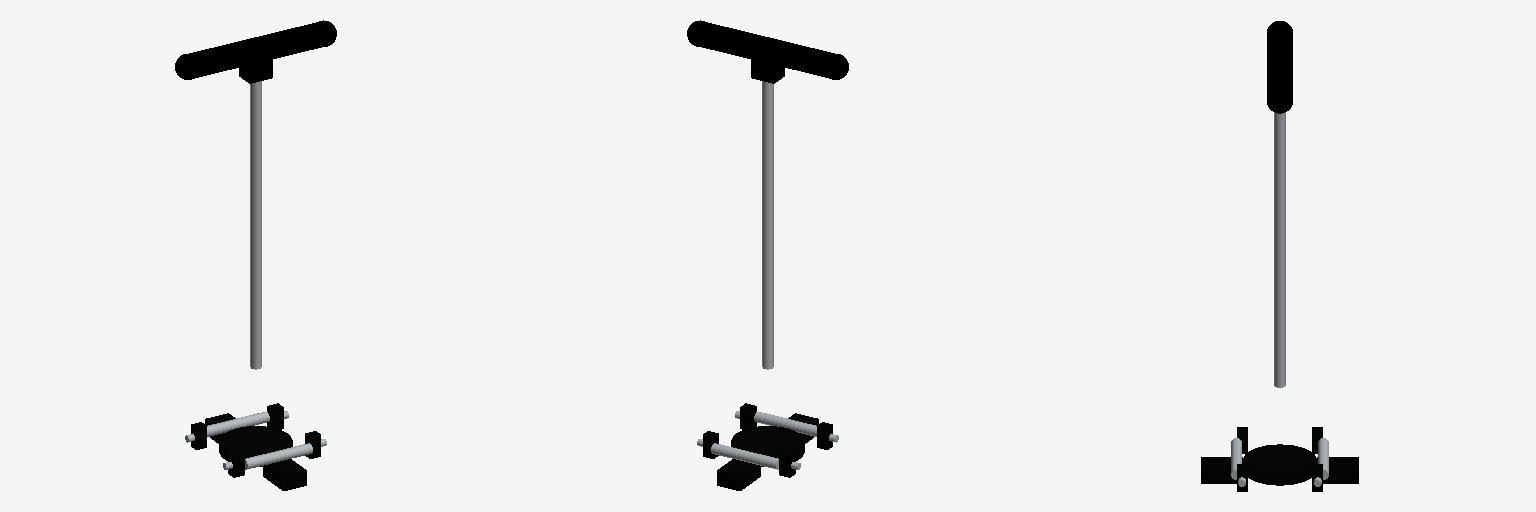
robot.urdf — portable_camping_pump:
<robot name="portable_camping_pump">
  <material name="matte_black_plastic">
    <color rgba="0.02 0.025 0.025 1" />
    </material>
  <material name="anodized_blue_barrel">
    <color rgba="0.05 0.28 0.62 1" />
    </material>
  <material name="soft_black_rubber">
    <color rgba="0.005 0.005 0.006 1" />
    </material>
  <material name="brushed_steel">
    <color rgba="0.72 0.74 0.75 1" />
    </material>
  <link name="base_barrel">
    <visual name="base_plate">
      <origin xyz="0 0 0.009" rpy="0 0 0" />
      <geometry>
        <mesh filename="assets/meshes/base_plate.obj" />
        </geometry>
      <material name="matte_black_plastic">
        <color rgba="0.02 0.025 0.025 1" />
        </material>
      </visual>
    <visual name="barrel_socket">
      <origin xyz="0 0 0.024" rpy="0 0 0" />
      <geometry>
        <cylinder radius="0.04" length="0.012" />
        </geometry>
      <material name="matte_black_plastic">
        <color rgba="0.02 0.025 0.025 1" />
        </material>
      </visual>
    <visual name="barrel_shell">
      <origin xyz="0 0 0.018" rpy="0 0 0" />
      <geometry>
        <mesh filename="assets/meshes/barrel_shell.obj" />
        </geometry>
      <material name="anodized_blue_barrel">
        <color rgba="0.05 0.28 0.62 1" />
        </material>
      </visual>
    <visual name="top_collar">
      <origin xyz="0 0 0.258" rpy="0 0 0" />
      <geometry>
        <mesh filename="assets/meshes/top_collar.obj" />
        </geometry>
      <material name="matte_black_plastic">
        <color rgba="0.02 0.025 0.025 1" />
        </material>
      </visual>
    <visual name="guide_bushing">
      <origin xyz="0 0 0.26" rpy="0 0 0" />
      <geometry>
        <mesh filename="assets/meshes/guide_bushing.obj" />
        </geometry>
      <material name="brushed_steel">
        <color rgba="0.72 0.74 0.75 1" />
        </material>
      </visual>
    <visual name="side_0_hinge_lug_0">
      <origin xyz="-0.048 0.041 0.031" rpy="0 0 0" />
      <geometry>
        <box size="0.014 0.012 0.026" />
        </geometry>
      <material name="matte_black_plastic">
        <color rgba="0.02 0.025 0.025 1" />
        </material>
      </visual>
    <visual name="side_0_hinge_lug_1">
      <origin xyz="0.048 0.041 0.031" rpy="0 0 0" />
      <geometry>
        <box size="0.014 0.012 0.026" />
        </geometry>
      <material name="matte_black_plastic">
        <color rgba="0.02 0.025 0.025 1" />
        </material>
      </visual>
    <visual name="side_1_hinge_lug_0">
      <origin xyz="-0.048 -0.041 0.031" rpy="0 0 0" />
      <geometry>
        <box size="0.014 0.012 0.026" />
        </geometry>
      <material name="matte_black_plastic">
        <color rgba="0.02 0.025 0.025 1" />
        </material>
      </visual>
    <visual name="side_1_hinge_lug_1">
      <origin xyz="0.048 -0.041 0.031" rpy="0 0 0" />
      <geometry>
        <box size="0.014 0.012 0.026" />
        </geometry>
      <material name="matte_black_plastic">
        <color rgba="0.02 0.025 0.025 1" />
        </material>
      </visual>
    <visual name="side_0_hinge_cap_0">
      <origin xyz="-0.059 0.041 0.031" rpy="0 1.5708 0" />
      <geometry>
        <cylinder radius="0.004" length="0.008" />
        </geometry>
      <material name="brushed_steel">
        <color rgba="0.72 0.74 0.75 1" />
        </material>
      </visual>
    <visual name="side_0_hinge_cap_1">
      <origin xyz="0.059 0.041 0.031" rpy="0 1.5708 0" />
      <geometry>
        <cylinder radius="0.004" length="0.008" />
        </geometry>
      <material name="brushed_steel">
        <color rgba="0.72 0.74 0.75 1" />
        </material>
      </visual>
    <visual name="side_1_hinge_cap_0">
      <origin xyz="-0.059 -0.041 0.031" rpy="0 1.5708 0" />
      <geometry>
        <cylinder radius="0.004" length="0.008" />
        </geometry>
      <material name="brushed_steel">
        <color rgba="0.72 0.74 0.75 1" />
        </material>
      </visual>
    <visual name="side_1_hinge_cap_1">
      <origin xyz="0.059 -0.041 0.031" rpy="0 1.5708 0" />
      <geometry>
        <cylinder radius="0.004" length="0.008" />
        </geometry>
      <material name="brushed_steel">
        <color rgba="0.72 0.74 0.75 1" />
        </material>
      </visual>
    </link>
  <link name="handle_rod">
    <visual name="rod">
      <origin xyz="0 0 0.035" rpy="0 0 0" />
      <geometry>
        <cylinder radius="0.006" length="0.38" />
        </geometry>
      <material name="brushed_steel">
        <color rgba="0.72 0.74 0.75 1" />
        </material>
      </visual>
    <visual name="t_grip">
      <origin xyz="0 0 0.225" rpy="0 1.5708 0" />
      <geometry>
        <cylinder radius="0.014" length="0.17" />
        </geometry>
      <material name="soft_black_rubber">
        <color rgba="0.005 0.005 0.006 1" />
        </material>
      </visual>
    <visual name="grip_end_0">
      <origin xyz="-0.085 0 0.225" rpy="0 0 0" />
      <geometry>
        <sphere radius="0.0145" />
        </geometry>
      <material name="soft_black_rubber">
        <color rgba="0.005 0.005 0.006 1" />
        </material>
      </visual>
    <visual name="grip_end_1">
      <origin xyz="0.085 0 0.225" rpy="0 0 0" />
      <geometry>
        <sphere radius="0.0145" />
        </geometry>
      <material name="soft_black_rubber">
        <color rgba="0.005 0.005 0.006 1" />
        </material>
      </visual>
    <visual name="grip_hub">
      <origin xyz="0 0 0.205" rpy="0 0 0" />
      <geometry>
        <box size="0.03 0.024 0.024" />
        </geometry>
      <material name="soft_black_rubber">
        <color rgba="0.005 0.005 0.006 1" />
        </material>
      </visual>
    </link>
  <link name="foot_0">
    <visual name="hinge_barrel">
      <origin xyz="0 0 0" rpy="0 1.5708 0" />
      <geometry>
        <cylinder radius="0.006" length="0.082" />
        </geometry>
      <material name="brushed_steel">
        <color rgba="0.72 0.74 0.75 1" />
        </material>
      </visual>
    <visual name="hinge_web">
      <origin xyz="0 0.016 -0.014" rpy="0 0 0" />
      <geometry>
        <box size="0.03 0.045 0.018" />
        </geometry>
      <material name="matte_black_plastic">
        <color rgba="0.02 0.025 0.025 1" />
        </material>
      </visual>
    <visual name="foot_plate">
      <origin xyz="0 0.062 -0.025" rpy="0 0 0" />
      <geometry>
        <mesh filename="assets/meshes/foot_plate.obj" />
        </geometry>
      <material name="matte_black_plastic">
        <color rgba="0.02 0.025 0.025 1" />
        </material>
      </visual>
    </link>
  <link name="foot_1">
    <visual name="hinge_barrel">
      <origin xyz="0 0 0" rpy="0 1.5708 0" />
      <geometry>
        <cylinder radius="0.006" length="0.082" />
        </geometry>
      <material name="brushed_steel">
        <color rgba="0.72 0.74 0.75 1" />
        </material>
      </visual>
    <visual name="hinge_web">
      <origin xyz="0 0.016 -0.014" rpy="0 0 0" />
      <geometry>
        <box size="0.03 0.045 0.018" />
        </geometry>
      <material name="matte_black_plastic">
        <color rgba="0.02 0.025 0.025 1" />
        </material>
      </visual>
    <visual name="foot_plate">
      <origin xyz="0 0.062 -0.025" rpy="0 0 0" />
      <geometry>
        <mesh filename="assets/meshes/foot_plate.obj" />
        </geometry>
      <material name="matte_black_plastic">
        <color rgba="0.02 0.025 0.025 1" />
        </material>
      </visual>
    </link>
  <joint name="barrel_to_handle" type="prismatic">
    <origin xyz="0 0 0.274" rpy="0 0 0" />
    <parent link="base_barrel" />
    <child link="handle_rod" />
    <axis xyz="0 0 1" />
    <limit effort="55" velocity="0.3" lower="0" upper="0.1" />
    </joint>
  <joint name="base_to_foot_0" type="revolute">
    <origin xyz="0 0.047 0.031" rpy="0 0 0" />
    <parent link="base_barrel" />
    <child link="foot_0" />
    <axis xyz="1 0 0" />
    <limit effort="8" velocity="2" lower="0" upper="1.55" />
    </joint>
  <joint name="base_to_foot_1" type="revolute">
    <origin xyz="0 -0.047 0.031" rpy="0 0 3.14159" />
    <parent link="base_barrel" />
    <child link="foot_1" />
    <axis xyz="1 0 0" />
    <limit effort="8" velocity="2" lower="0" upper="1.55" />
    </joint>
  </robot>

--- What the picture shows (computed from the rendered views, not written in the file) ---
The picture shows the robot from 3 angles, left to right: view 1: azimuth 30°, elevation 25°; view 2: azimuth 150°, elevation 25°; view 3: azimuth 270°, elevation 25°; orthographic projection.
Robot: portable_camping_pump — 4 links, 3 joints (2 revolute, 1 prismatic); root link base_barrel; default pose: all joints at 0.
Visible links, largest first — view 1: handle_rod, base_barrel, foot_1, foot_0; view 2: handle_rod, base_barrel, foot_0, foot_1; view 3: handle_rod, base_barrel, foot_0, foot_1.
Boxes of the visible links, bbox=[...] form: handle_rod: bbox=[175, 20, 336, 369]; base_barrel: bbox=[185, 403, 326, 477]; foot_1: bbox=[245, 443, 312, 490]; foot_0: bbox=[205, 412, 269, 443]; handle_rod: bbox=[687, 20, 848, 369]; base_barrel: bbox=[697, 403, 838, 477]; foot_0: bbox=[711, 443, 778, 490]; foot_1: bbox=[754, 412, 818, 443]; handle_rod: bbox=[1267, 21, 1292, 387]; base_barrel: bbox=[1237, 427, 1322, 491]; foot_0: bbox=[1317, 438, 1358, 483]; foot_1: bbox=[1201, 438, 1242, 483].
Size in the robot's own frame: 0.199 by 0.171 by 0.5055 metres.
Meshes: 5 distinct files referenced, 0 mesh visuals loaded (none loaded); not drawn: 6 (reference not matched to a file when rendering).
